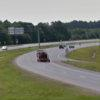Tree: (24, 13, 72, 43)
